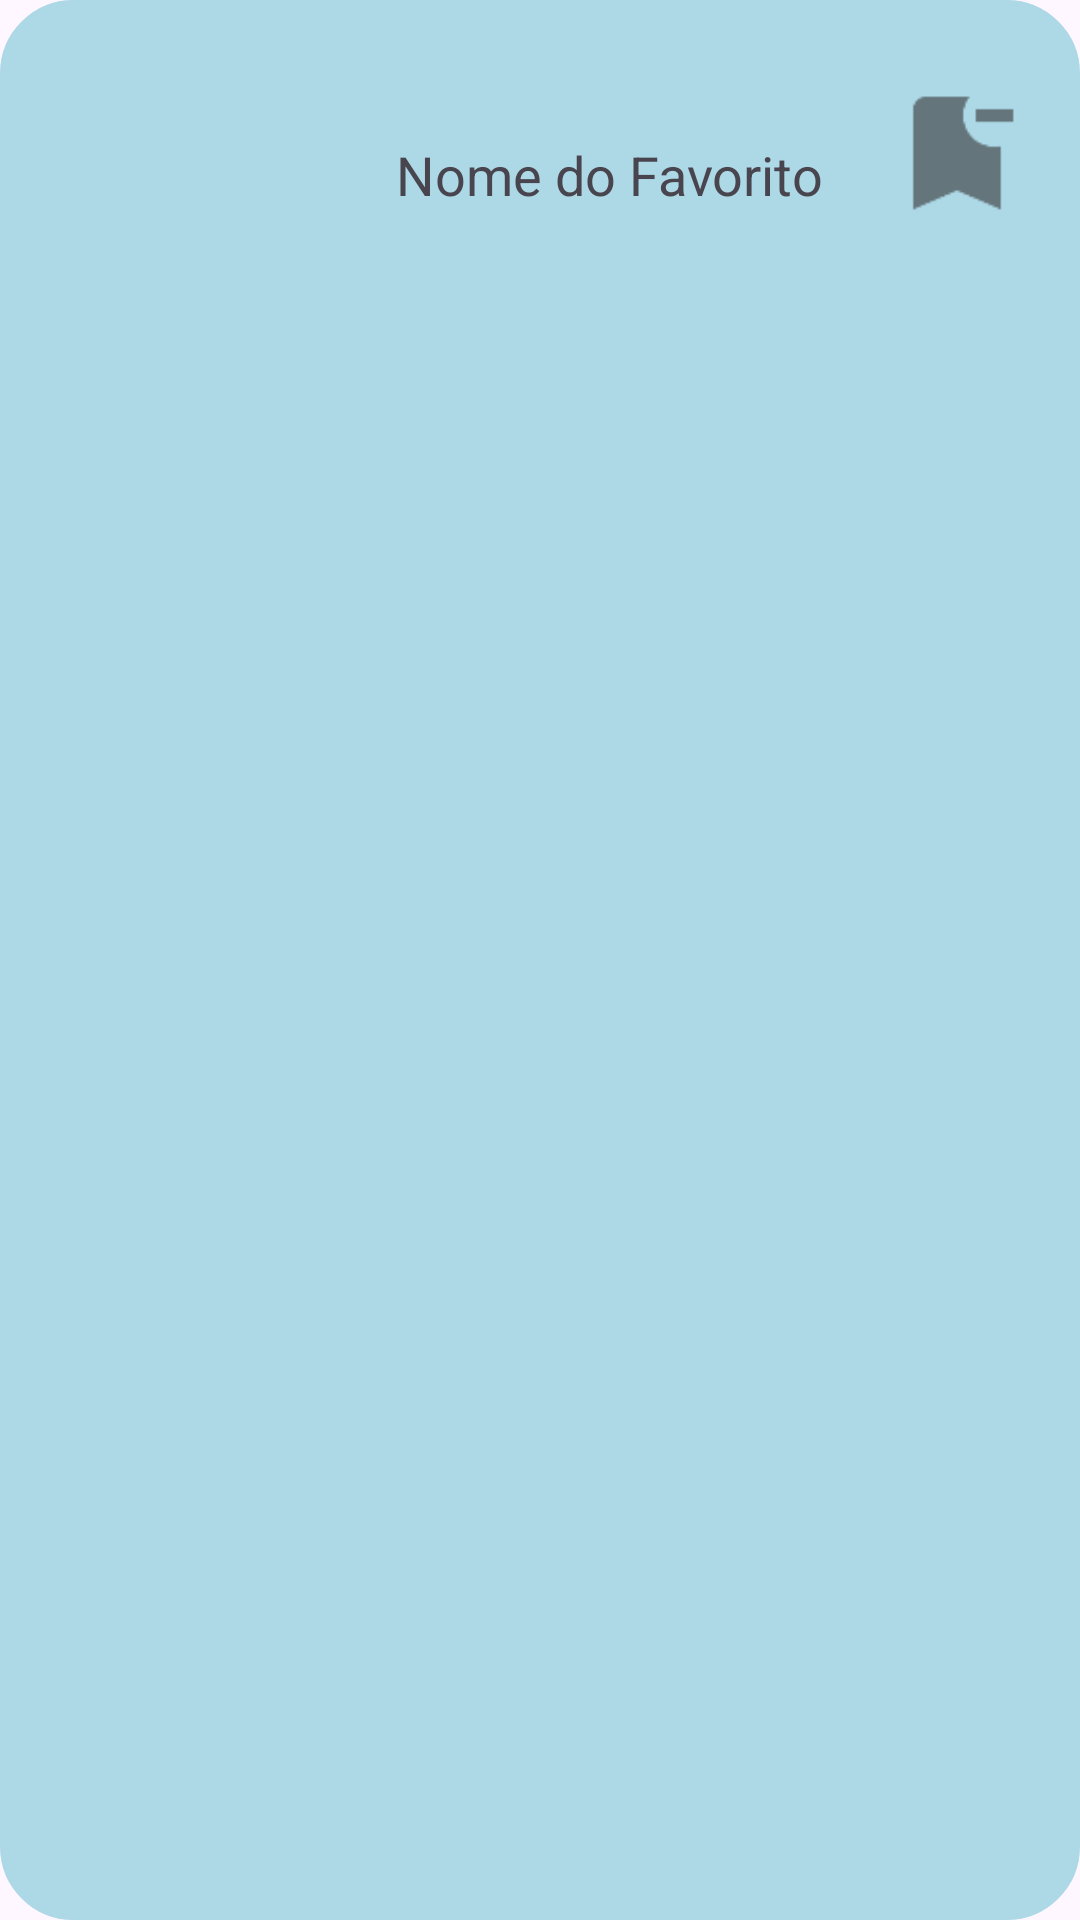

Named icons in this screenshot (1080px×1920px) and their bounding boxes, BBox(x1, y1, x2, y2):
Remover Favorito: BBox(913, 96, 1014, 210)
